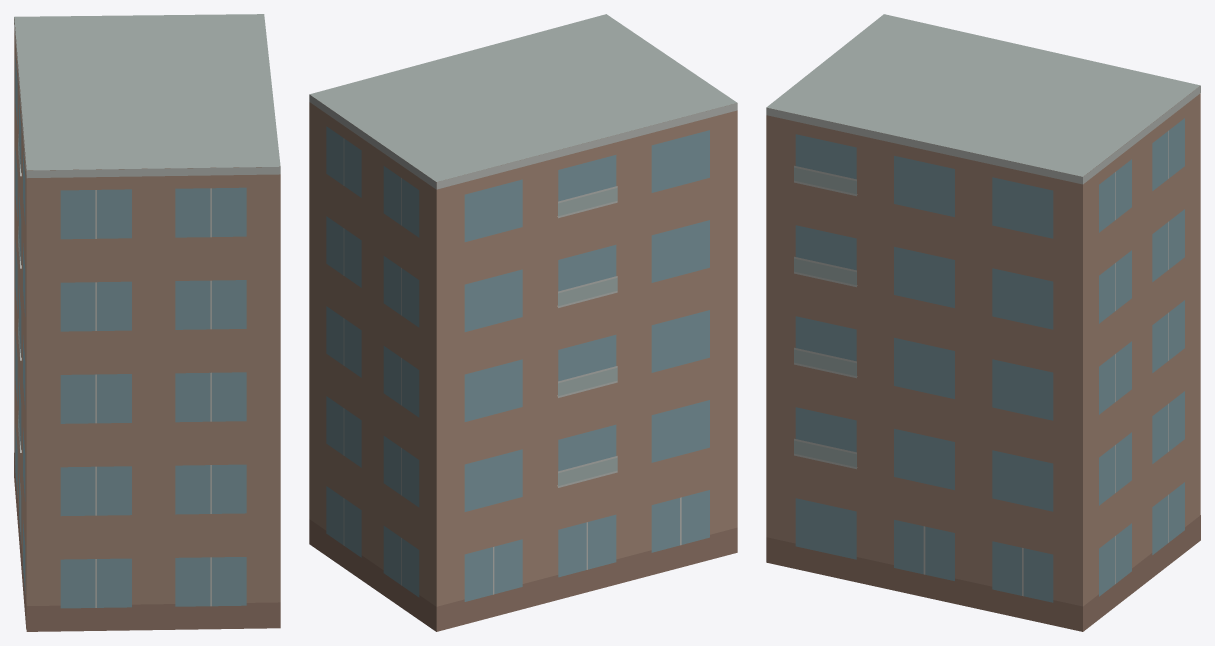
Rendered from survey-upis-32748031.glb.
3 renders of one model, left to right at view 1: azimuth 30°, elevation 25°; view 2: azimuth 150°, elevation 25°; view 3: azimuth 270°, elevation 25°, orthographic. The views are drawn at different scales.
Parts seen in each view (by area): view 1: survey-upis-32748031.tmp; view 2: survey-upis-32748031.tmp; view 3: survey-upis-32748031.tmp.
Boxes of the visible parts, box(x1,y1,x2,y2) form: survey-upis-32748031.tmp: box(14, 14, 280, 631); survey-upis-32748031.tmp: box(309, 14, 737, 631); survey-upis-32748031.tmp: box(766, 14, 1200, 631).
Size of the model in its own units: 11.22 by 14.6 by 12.65.
